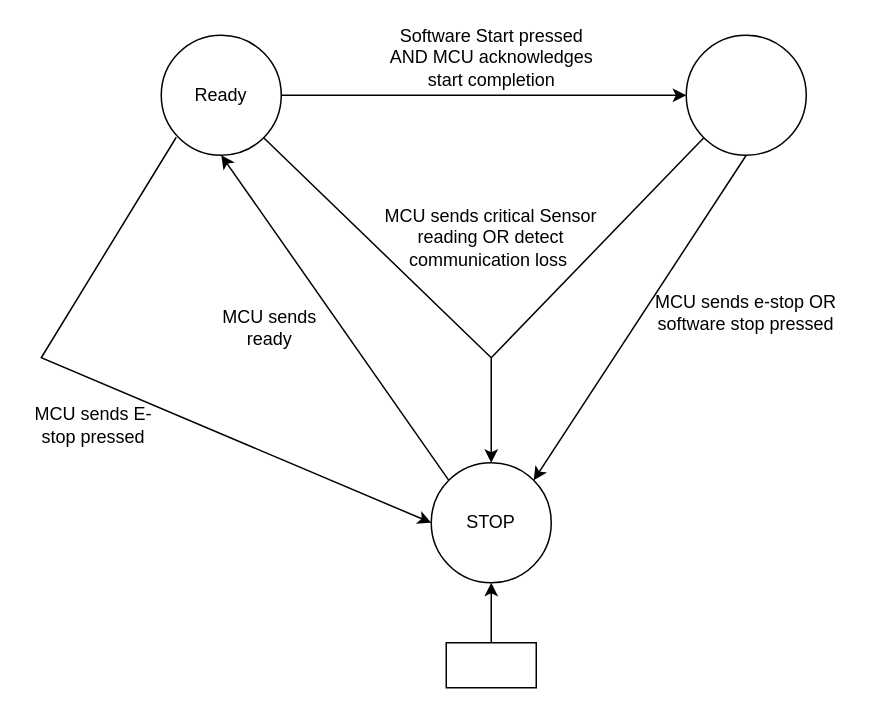
This 869x714 diagram has some shape labels left out. The box of each missing label's shape, as (x1, y1, x2, y2) in pixels:
Running: (685, 34, 806, 155)
Start: (445, 641, 536, 688)
